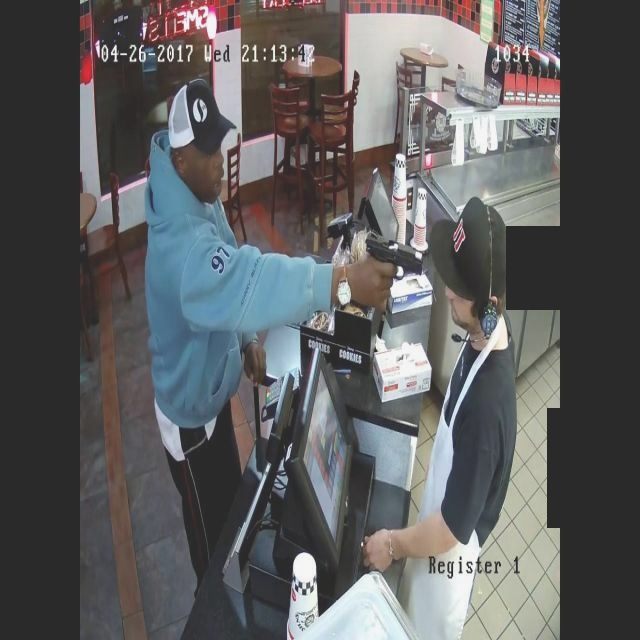gun: (353, 213, 428, 302)
